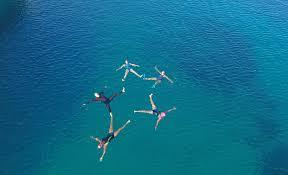Person: (88, 112, 133, 162), (133, 92, 176, 130), (83, 86, 127, 112), (144, 63, 175, 90), (116, 59, 145, 82)
